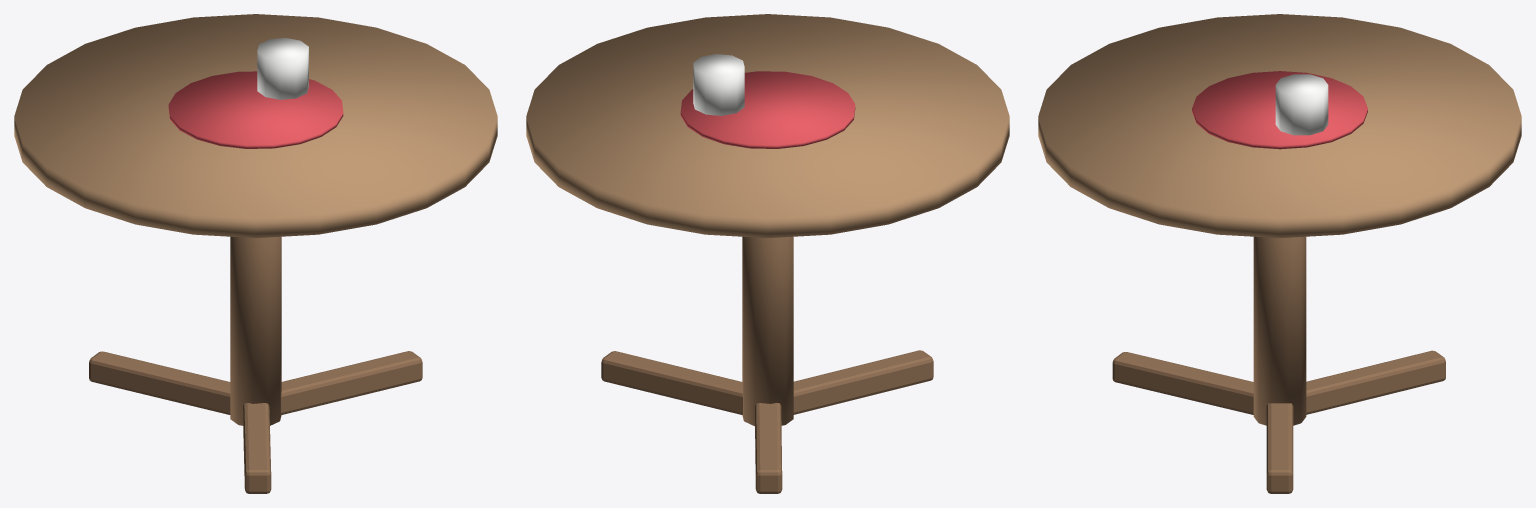
File: KitchenTable.fbx
3 views of the same model, side by side, from view 1: azimuth 30°, elevation 25°; view 2: azimuth 150°, elevation 25°; view 3: azimuth 270°, elevation 25° (orthographic).
Parts seen in each view (by area): view 1: KitchenTable; view 2: KitchenTable; view 3: KitchenTable.
Part boxes in pixels (<box>): KitchenTable: <box>14,14,497,493</box>; KitchenTable: <box>526,14,1009,493</box>; KitchenTable: <box>1038,14,1521,493</box>.
Bounding box in the file's own units: 110 × 88 × 110.
